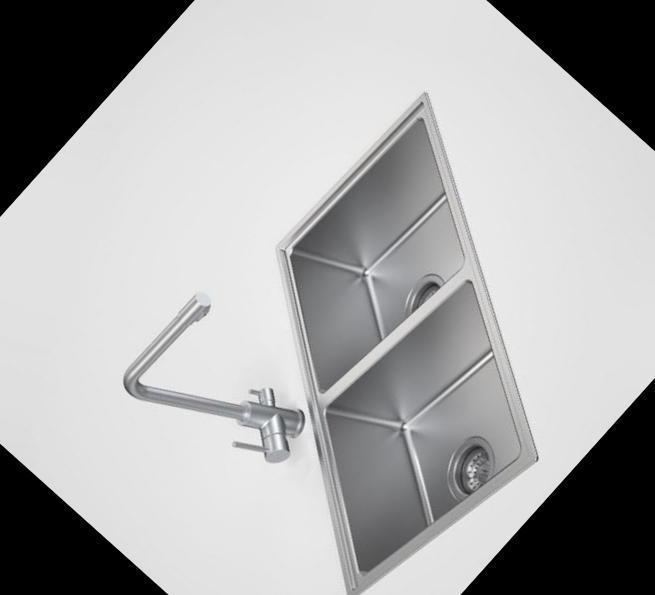Lavaplatos: (59, 27, 655, 595)
